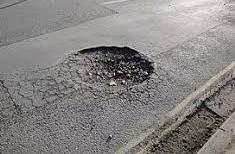alligator-crack: (15, 58, 65, 125)
pothole: (64, 44, 154, 89)
